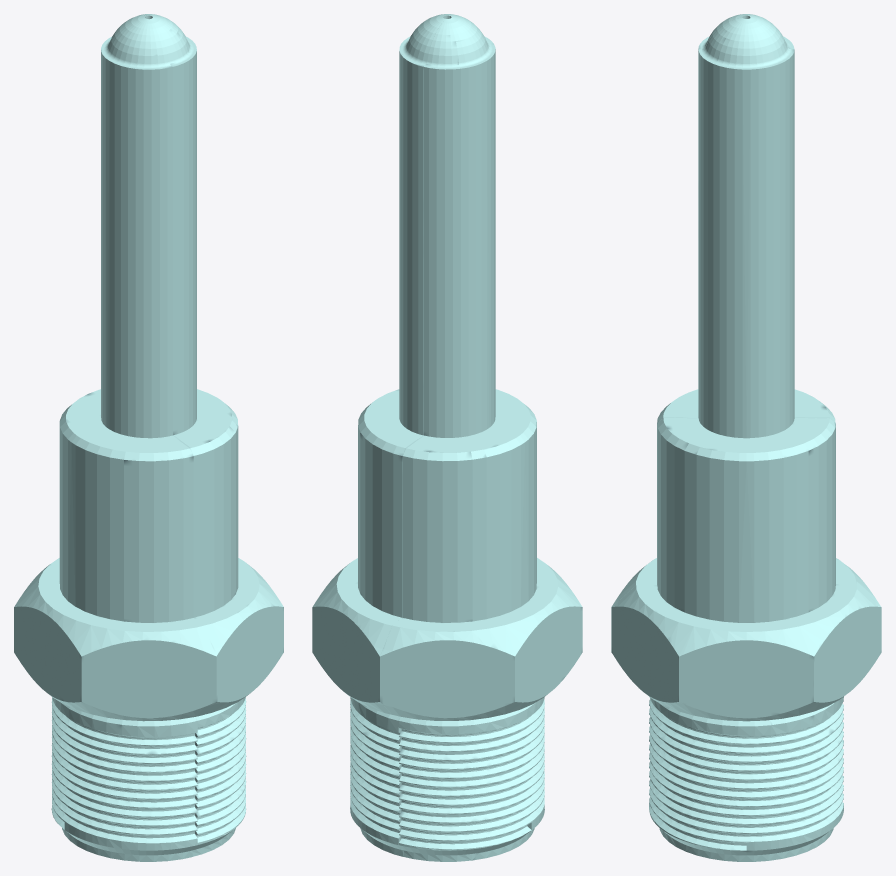
File: Extra-Nozzle2-M.glb
The picture shows the model from 3 angles, left to right: view 1: azimuth 30°, elevation 25°; view 2: azimuth 150°, elevation 25°; view 3: azimuth 270°, elevation 25°; orthographic projection.
Parts seen in each view (by area): view 1: nozzle2.002, nozzle2.001; view 2: nozzle2.002, nozzle2.001; view 3: nozzle2.001, nozzle2.002.
Boxes of the visible parts, x1=… form: nozzle2.002: x1=14, y1=15, x2=216, y2=861; nozzle2.001: x1=141, y1=14, x2=283, y2=856; nozzle2.002: x1=380, y1=14, x2=582, y2=861; nozzle2.001: x1=312, y1=14, x2=454, y2=856; nozzle2.001: x1=611, y1=17, x2=881, y2=861; nozzle2.002: x1=611, y1=14, x2=880, y2=809.
Bounding box in the file's own units: 0.6685 × 2.55 × 0.7727.
1 material, 1 textured.
